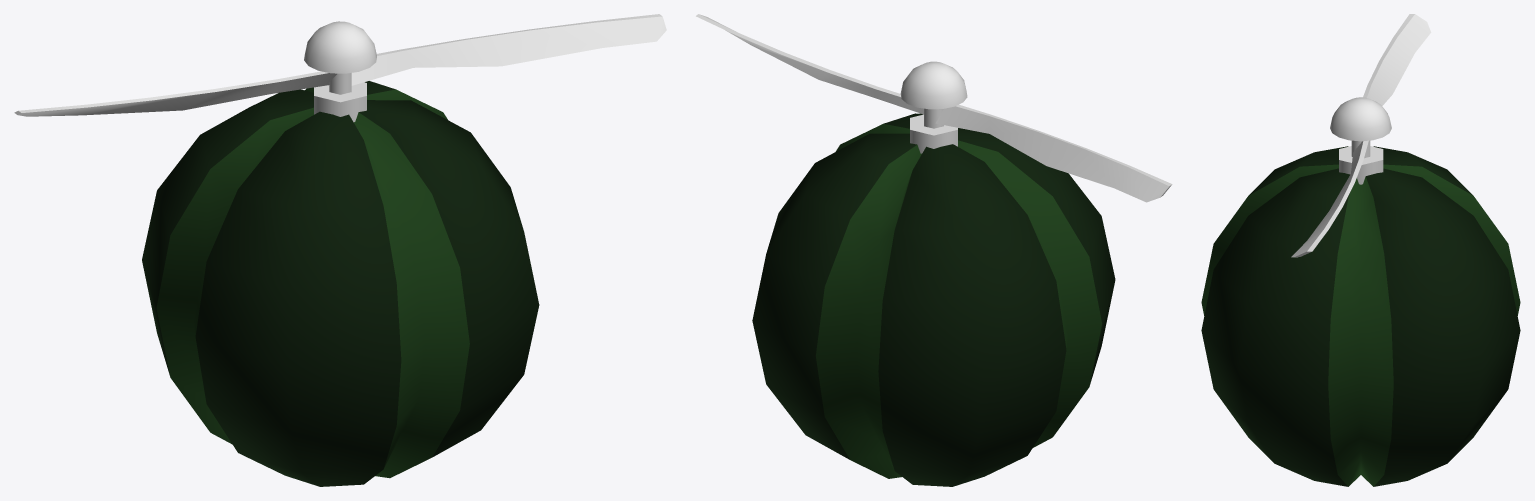
Rendered from DNUy4grapplePoint.fbx.
The picture shows the model from 3 angles, left to right: view 1: azimuth 30°, elevation 25°; view 2: azimuth 150°, elevation 25°; view 3: azimuth 270°, elevation 25°; orthographic projection. The views are drawn at different scales.
Parts seen in each view (by area): view 1: Sphere001, Cylinder002, Sphere002, Cylinder001; view 2: Sphere001, Cylinder002, Sphere002, Cylinder001; view 3: Sphere001, Cylinder002, Sphere002, Cylinder001.
Boxes of the visible parts, x1,y1,x2,y2 form: Sphere001: (142, 81, 539, 486); Cylinder002: (14, 14, 666, 116); Sphere002: (304, 21, 376, 73); Cylinder001: (314, 82, 366, 122); Sphere001: (752, 113, 1115, 486); Cylinder002: (696, 14, 1172, 202); Sphere002: (900, 61, 967, 109); Cylinder001: (910, 114, 957, 153); Sphere001: (1201, 146, 1520, 486); Cylinder002: (1291, 14, 1431, 257); Sphere002: (1330, 97, 1391, 141); Cylinder001: (1339, 146, 1383, 184).
Size of the model in its own units: 51.26 by 37.7 by 29.1.
